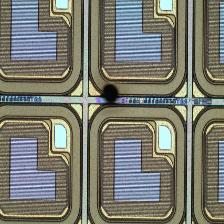PARTICLE: (97, 81, 125, 109)
